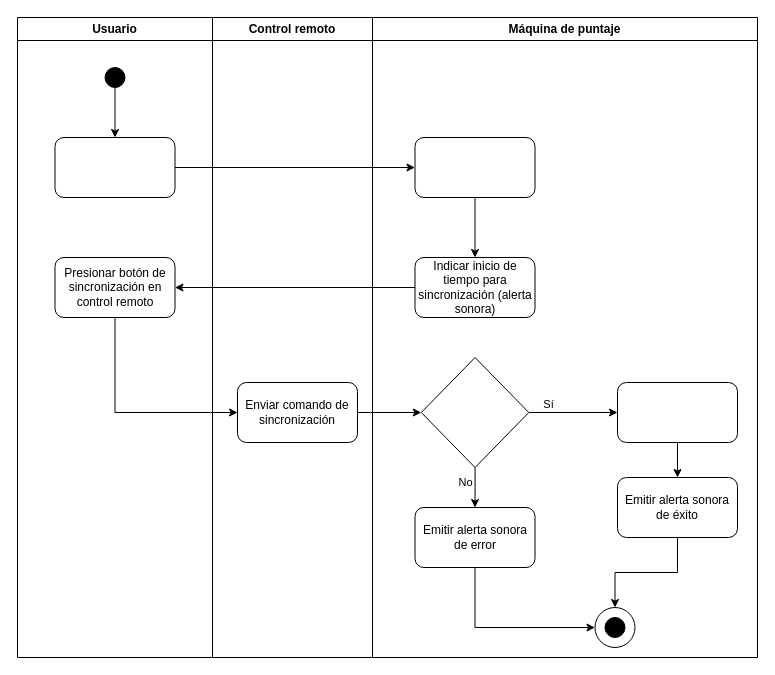
Some shapes in this 775 by 675 pixel diagram are drawn without their labels. The centre of each missing label's shape, as x and y in pixels:
"Detectar botón presionado" belongs at (474,167).
"Es comando de sincronizar?" belongs at (474,412).
"Presionar botón para sincronizar nuevo control" belongs at (114,167).
"Registrar nuevo identificador de control remoto" belongs at (677,412).
